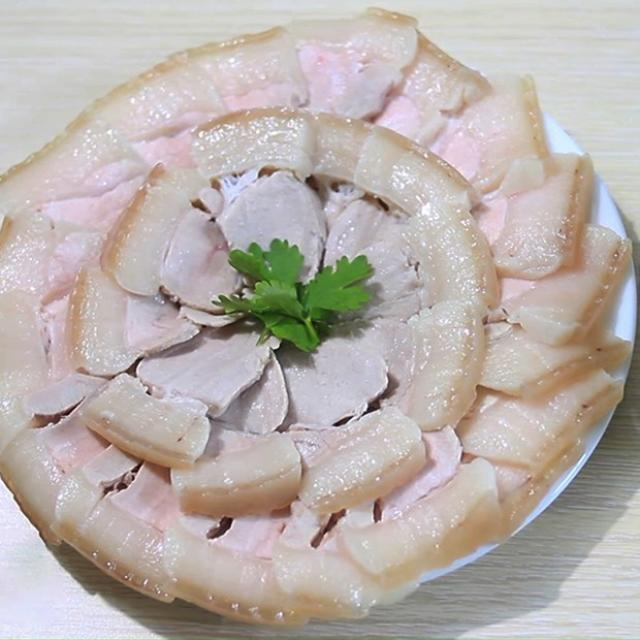rau ngo: (215, 238, 372, 351)
thit luoc: (175, 8, 629, 617), (0, 28, 324, 621)
